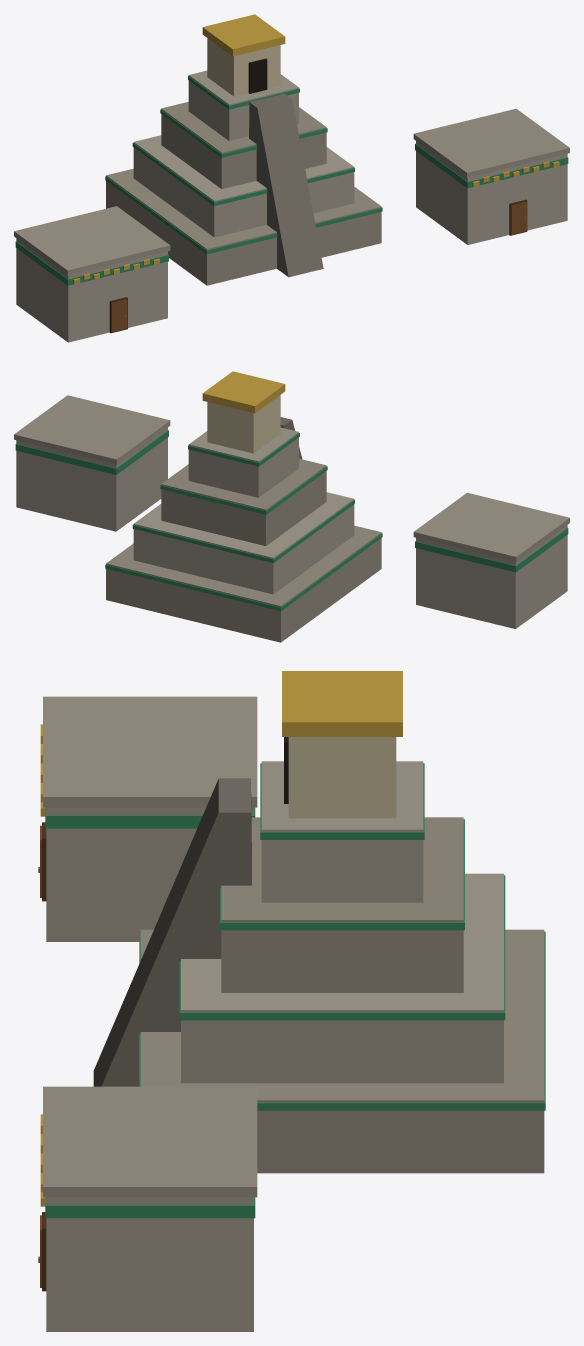
Rendered from frog_court.glb.
3 views of the same model, one above another, from view 1: azimuth 30°, elevation 25°; view 2: azimuth 150°, elevation 25°; view 3: azimuth 270°, elevation 25° (orthographic). The views are drawn at different scales.
Parts seen in each view (by area): view 1: frog_court; view 2: frog_court; view 3: frog_court.
Part boxes in pixels (x1,y1,x2,y2): frog_court: (14, 14, 569, 342); frog_court: (14, 371, 569, 642); frog_court: (38, 671, 545, 1331).
Size of the model in its own units: 6.04 by 2.25 by 2.64.
